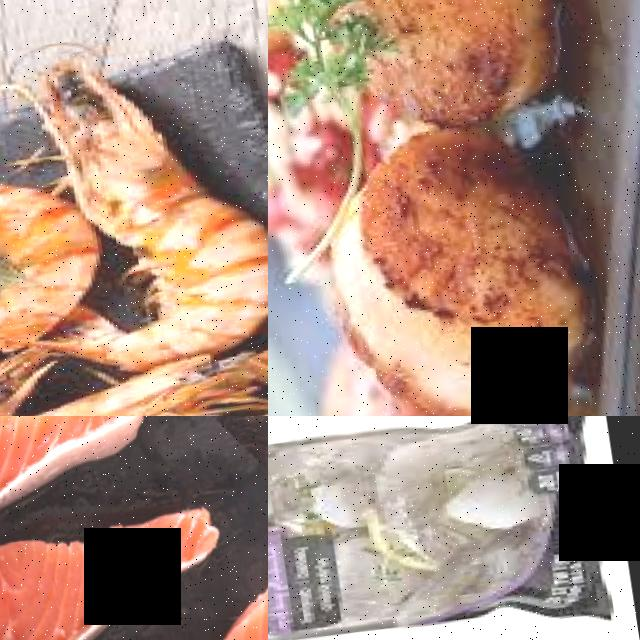salmon: (0, 416, 159, 553)
sea scallops: (320, 126, 607, 416), (352, 0, 587, 136)
shrimp: (48, 33, 268, 360), (0, 144, 99, 361), (0, 366, 173, 416)
